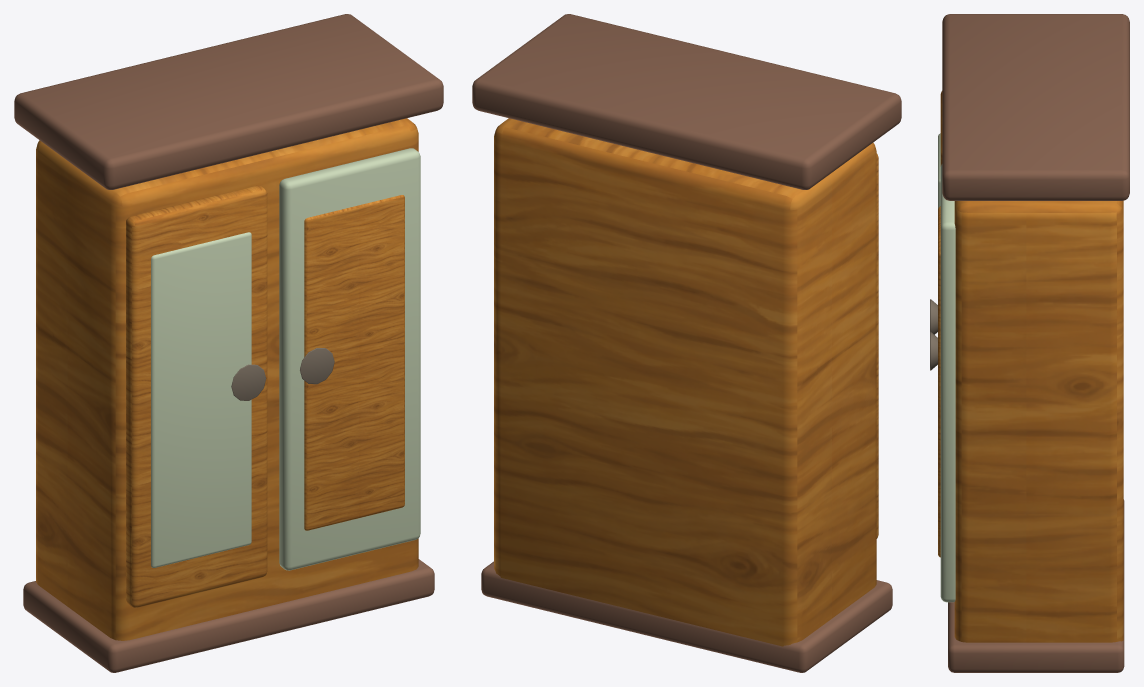
The model's file is wardrobe.glb.
3 views of the same model, side by side, from view 1: azimuth 30°, elevation 25°; view 2: azimuth 150°, elevation 25°; view 3: azimuth 270°, elevation 25° (orthographic). The views are drawn at different scales.
Parts seen in each view (by area): view 1: wardrobe; view 2: wardrobe; view 3: wardrobe.
Part boxes in pixels (bbox=[...]): wardrobe: bbox=[14, 14, 443, 672]; wardrobe: bbox=[472, 14, 901, 672]; wardrobe: bbox=[930, 14, 1129, 672].
Bounding box in the file's own units: 1.25 × 1.82 × 0.652.
Materials: 4 (1 with a texture image).
